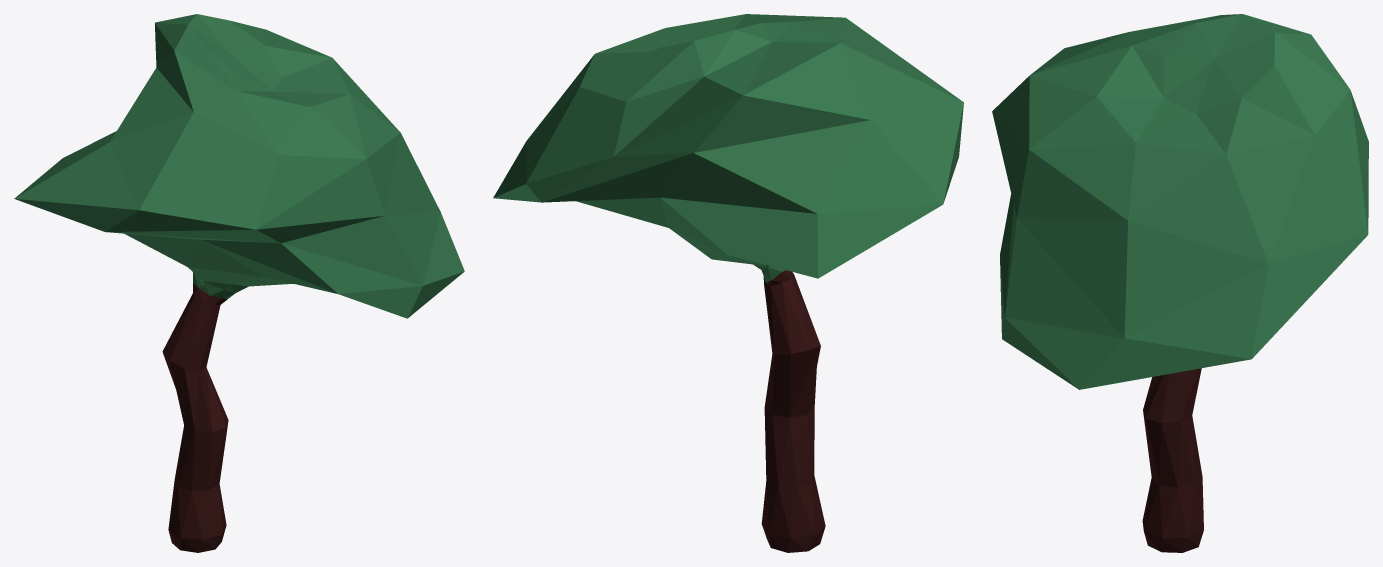
Rendered from 01_treeB_02.fbx.
The picture shows the model from 3 angles, left to right: view 1: azimuth 30°, elevation 25°; view 2: azimuth 150°, elevation 25°; view 3: azimuth 270°, elevation 25°; orthographic projection. The views are drawn at different scales.
Visible parts, largest first — view 1: _treeCopaB_02, _treeTroncoB_02; view 2: _treeCopaB_02, _treeTroncoB_02; view 3: _treeCopaB_02, _treeTroncoB_02.
Boxes of the visible parts, x1,y1,x2,y2 form: _treeCopaB_02: (14, 14, 464, 318); _treeTroncoB_02: (162, 283, 228, 552); _treeCopaB_02: (493, 14, 963, 282); _treeTroncoB_02: (761, 270, 825, 552); _treeCopaB_02: (992, 14, 1368, 389); _treeTroncoB_02: (1142, 368, 1203, 552).
Size of the model in its own units: 3.72 by 4.32 by 2.73.
